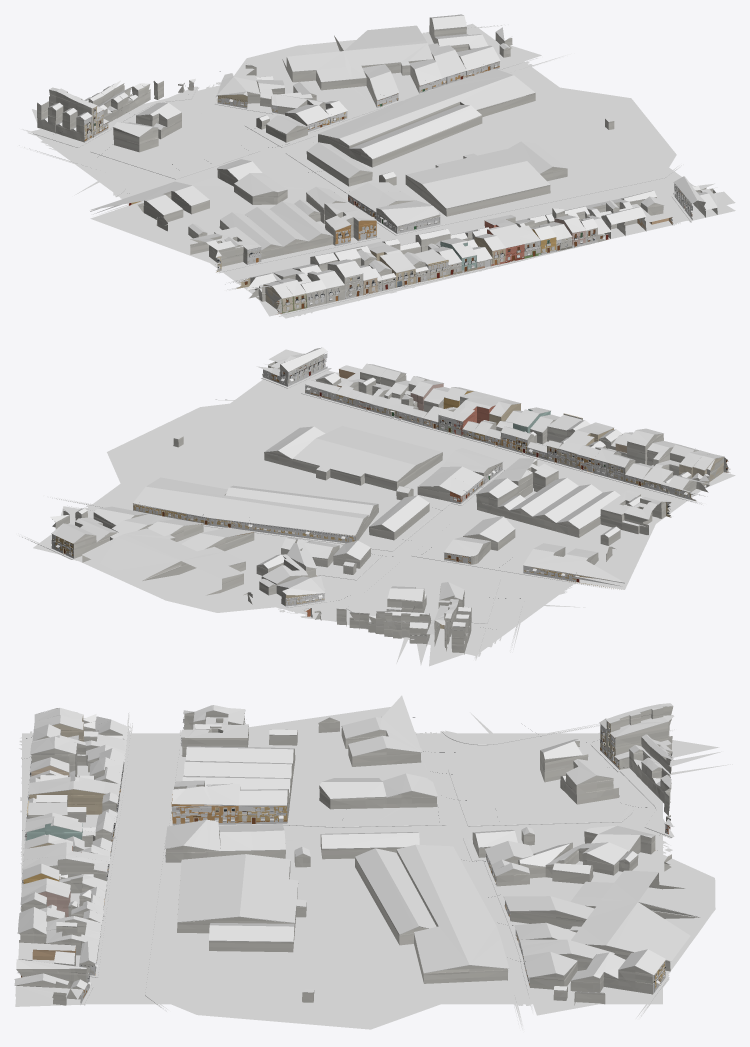
The model's file is zona_2_-1.glb.
3 views of the same model, one above another, from view 1: azimuth 30°, elevation 25°; view 2: azimuth 150°, elevation 25°; view 3: azimuth 270°, elevation 25° (orthographic). The views are drawn at different scales.
Visible parts, largest first — view 1: z_calle_2_-1, z_tejados_2_-1, z_casas_2_-1, z_fachadas_2_-1, z_suelo_2_-1, z_casas_planas_2_-1; view 2: z_calle_2_-1, z_tejados_2_-1, z_casas_2_-1, z_fachadas_2_-1, z_suelo_2_-1, z_casas_planas_2_-1; view 3: z_calle_2_-1, z_tejados_2_-1, z_casas_2_-1, z_suelo_2_-1, z_casas_planas_2_-1, z_fachadas_2_-1.
Boxes of the visible parts, left/top/right/bottom form: z_calle_2_-1: left=21, top=23, right=735, bottom=318; z_tejados_2_-1: left=37, top=14, right=717, bottom=298; z_casas_2_-1: left=37, top=18, right=717, bottom=313; z_fachadas_2_-1: left=84, top=25, right=705, bottom=314; z_suelo_2_-1: left=27, top=62, right=688, bottom=317; z_casas_planas_2_-1: left=122, top=117, right=735, bottom=278; z_calle_2_-1: left=18, top=368, right=735, bottom=666; z_tejados_2_-1: left=50, top=347, right=724, bottom=643; z_casas_2_-1: left=51, top=354, right=728, bottom=654; z_fachadas_2_-1: left=51, top=353, right=728, bottom=626; z_suelo_2_-1: left=84, top=370, right=730, bottom=656; z_casas_planas_2_-1: left=173, top=349, right=653, bottom=611; z_calle_2_-1: left=14, top=706, right=732, bottom=1029; z_tejados_2_-1: left=14, top=695, right=690, bottom=993; z_casas_2_-1: left=16, top=706, right=699, bottom=1005; z_suelo_2_-1: left=17, top=717, right=672, bottom=1005; z_casas_planas_2_-1: left=15, top=717, right=619, bottom=1005; z_fachadas_2_-1: left=18, top=713, right=668, bottom=1004.
Bounding box in the file's own units: 239 × 15.26 × 223.
